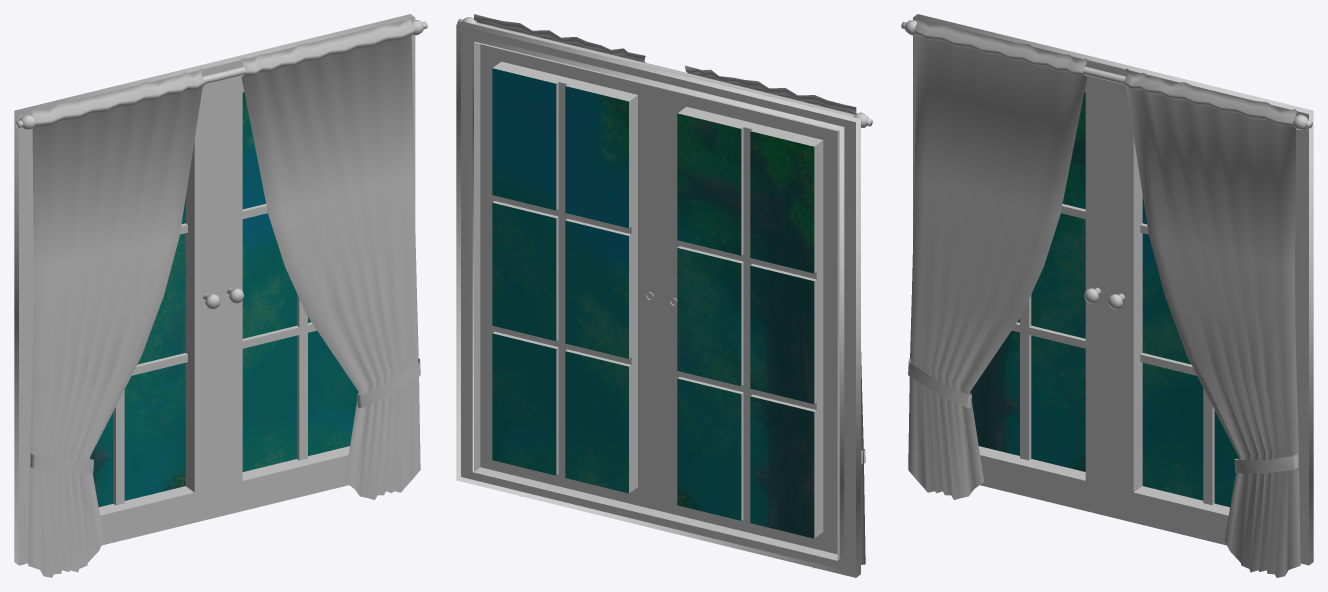
The model's file is window.obj.
3 views of the same model, side by side, from view 1: azimuth 30°, elevation 25°; view 2: azimuth 150°, elevation 25°; view 3: azimuth 330°, elevation 25° (orthographic).
Visible parts, largest first — view 1: Plane.005, Cube.025, Cube.024, Plane.006, Cylinder.091; view 2: Cube.025, Cube.024, Plane.005, Cylinder.091; view 3: Plane.005, Cube.025, Cube.024, Plane.006, Cylinder.091.
Boxes of the visible parts, x1,y1,x2,y2 form: Plane.005: (28,17,420,577); Cube.025: (90,74,358,533); Cube.024: (14,14,415,565); Plane.006: (30,358,420,473); Cylinder.091: (16,20,427,129); Cube.025: (474,41,839,560); Cube.024: (456,21,860,577); Plane.005: (474,14,865,568); Cylinder.091: (457,17,872,128); Plane.005: (908,17,1300,577); Cube.025: (970,74,1238,533); Cube.024: (913,14,1313,565); Plane.006: (908,358,1298,473); Cylinder.091: (901,20,1312,130).
Size of the model in its own units: 2.54 by 2.79 by 0.1958.
